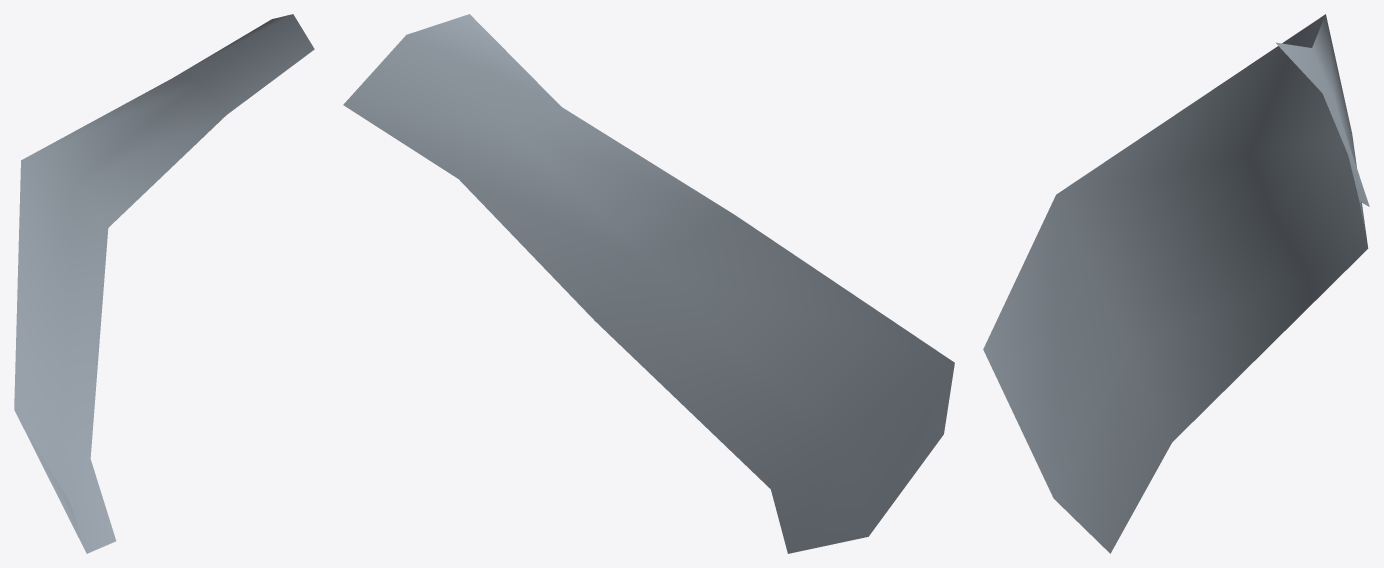
The model's file is posterior-ligament-of-fibular-head-l.glb.
3 renders of one model, left to right at view 1: azimuth 30°, elevation 25°; view 2: azimuth 150°, elevation 25°; view 3: azimuth 270°, elevation 25°, orthographic. The views are drawn at different scales.
Visible parts, largest first — view 1: Posterior ligament of fibular head.l; view 2: Posterior ligament of fibular head.l; view 3: Posterior ligament of fibular head.l.
Boxes of the visible parts, x1,y1,x2,y2 form: Posterior ligament of fibular head.l: (14, 14, 314, 553); Posterior ligament of fibular head.l: (343, 14, 954, 553); Posterior ligament of fibular head.l: (983, 14, 1369, 553).
Bounding box in the file's own units: 0.0212 × 0.0218 × 0.0114.
